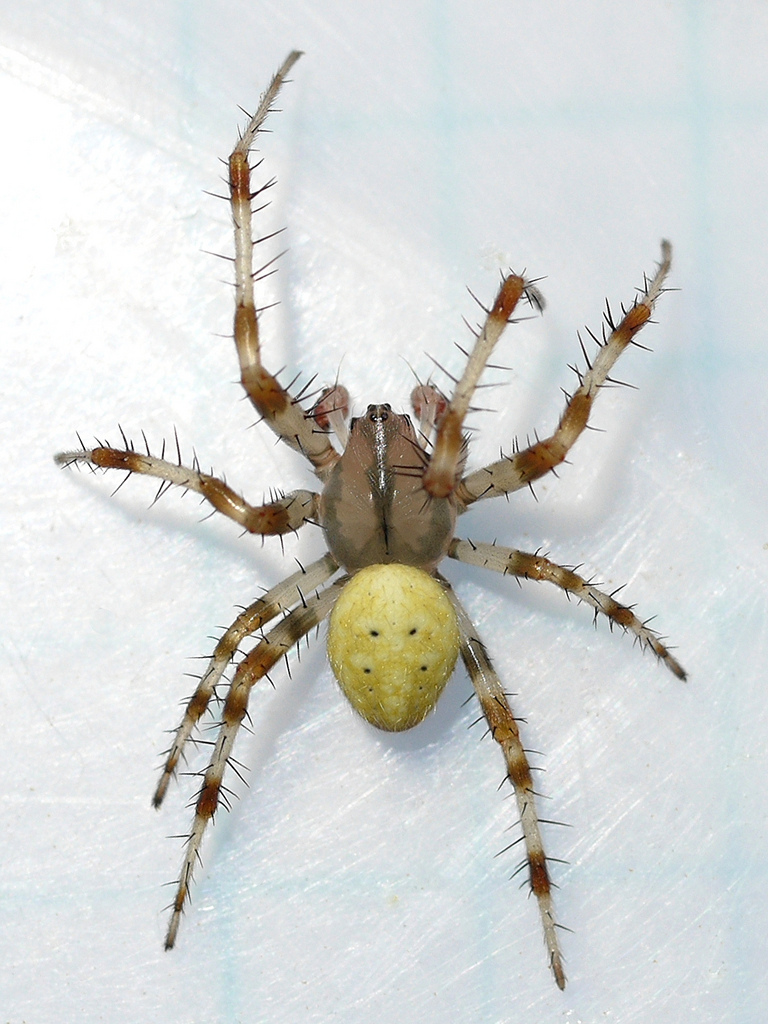spider: (46, 29, 710, 1004)
